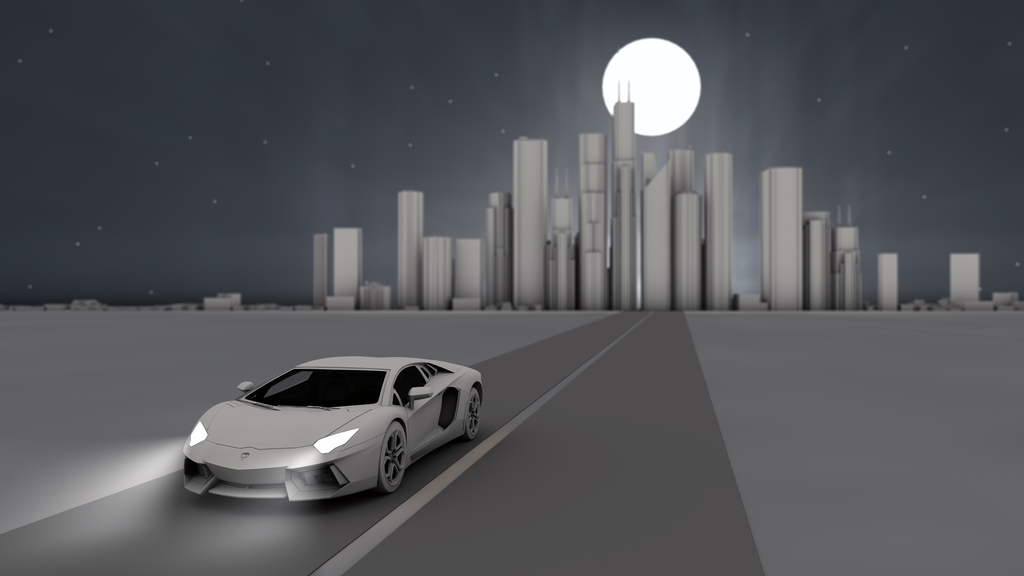Car: (172, 345, 483, 508)
